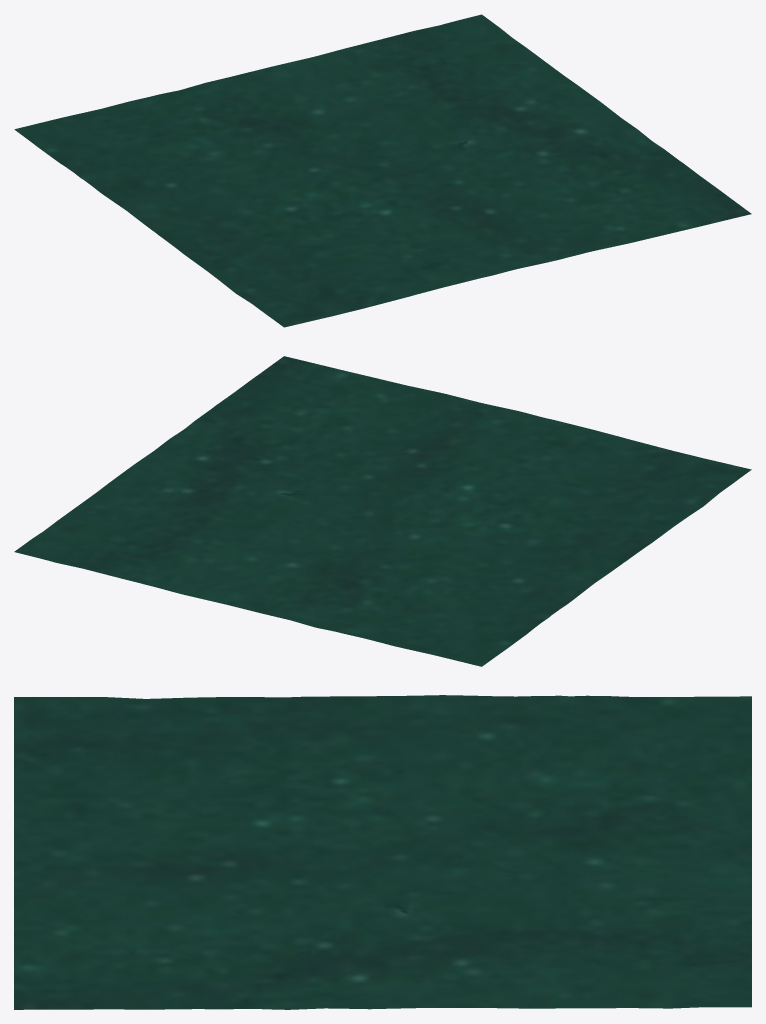
3 views of the same model, one above another, from view 1: azimuth 30°, elevation 25°; view 2: azimuth 150°, elevation 25°; view 3: azimuth 270°, elevation 25° (orthographic). The views are drawn at different scales.
Size of the model in its own units: 52.22 by 0.4047 by 52.22.
2 materials, 2 textured.
